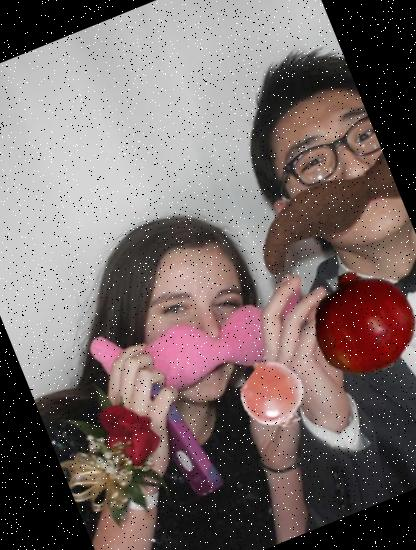Pomegranate: (294, 253, 416, 390)
Redcurrant: (233, 354, 318, 440)
